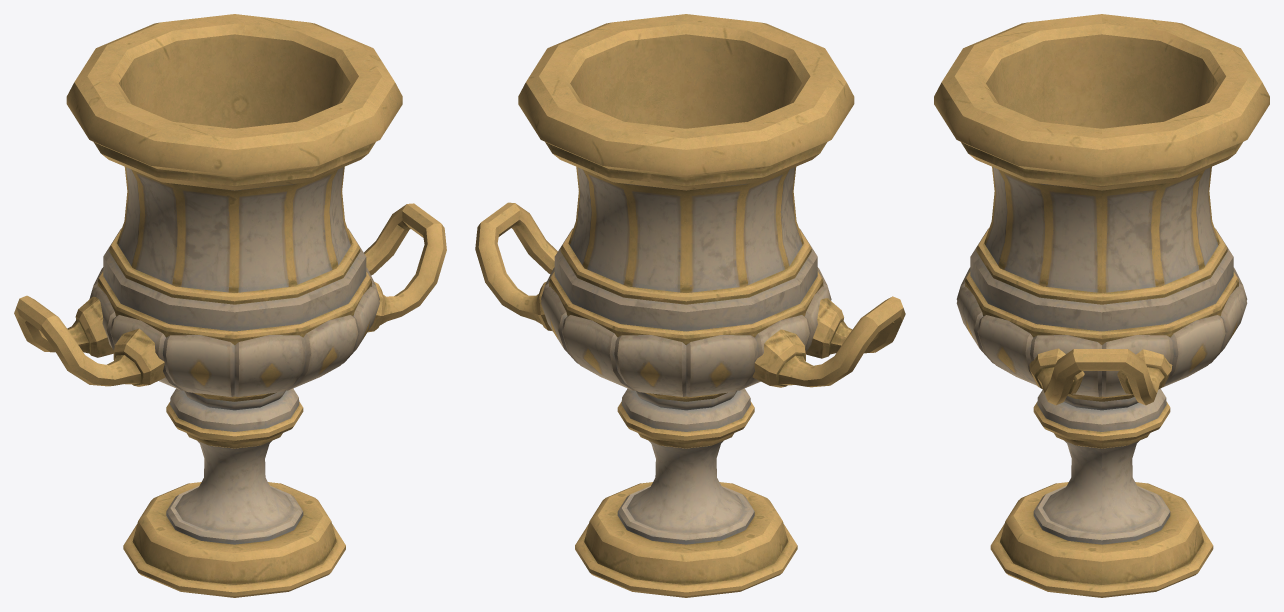
File: GreatAscension_Vase_A.fbx
3 renders of one model, left to right at view 1: azimuth 30°, elevation 25°; view 2: azimuth 150°, elevation 25°; view 3: azimuth 270°, elevation 25°, orthographic.
Visible parts, largest first — view 1: GreatAscension_Vase_A; view 2: GreatAscension_Vase_A; view 3: GreatAscension_Vase_A.
Part boxes in pixels (x1,y1,x2,y2): GreatAscension_Vase_A: [14, 14, 446, 597]; GreatAscension_Vase_A: [475, 14, 905, 597]; GreatAscension_Vase_A: [934, 14, 1269, 597].
Size of the model in its own units: 162 by 183 by 117.
Materials: 1 (1 with a texture image).
